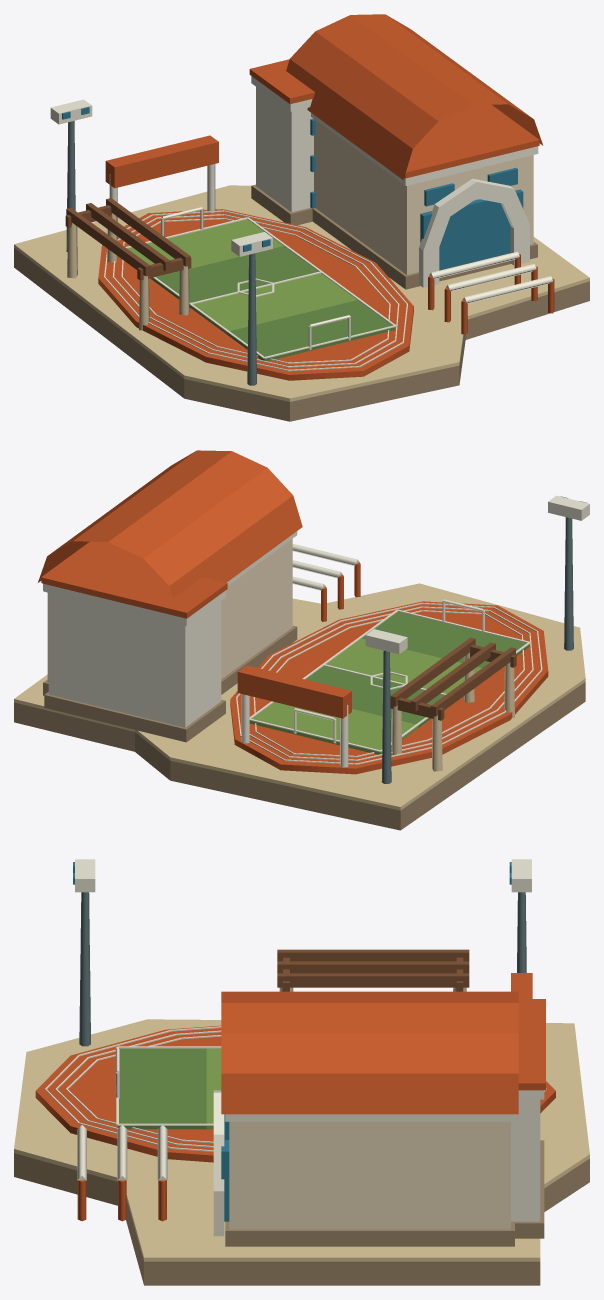
File: training-center-lv3.glb
3 views of the same model, one above another, from view 1: azimuth 30°, elevation 25°; view 2: azimuth 150°, elevation 25°; view 3: azimuth 270°, elevation 25° (orthographic). The views are drawn at different scales.
Parts seen in each view (by area): view 1: foundation_sand, gym_barrel_roof_orange, running_track_orange, foundation_stoneDark, training_hall_cream, pitch_grass, pitch_grassLight, performance_block_white, training_hall_roof_orange, coaching_shelter_wood, gym_front_arch_white, gym_front_glass (+15 smaller); view 2: gym_barrel_roof_orange, performance_block_white, foundation_sand, running_track_orange, foundation_stoneDark, training_hall_cream, performance_block_roof_orange, pitch_grassLight, pitch_grass, coaching_shelter_wood, running_lanes_white, timing_gate_orange (+11 smaller); view 3: gym_barrel_roof_orange, training_hall_cream, foundation_sand, foundation_stoneDark, running_track_orange, coaching_shelter_wood, pitch_grass, training_hall_stoneDark, performance_block_white, performance_block_roof_orange, lighting_iron, training_hall_white (+9 smaller).
Part boxes in pixels (x1,y1,x2,y2): foundation_sand: [14, 185, 589, 401]; gym_barrel_roof_orange: [286, 14, 543, 179]; running_track_orange: [98, 209, 413, 380]; foundation_stoneDark: [14, 248, 589, 421]; training_hall_cream: [314, 120, 533, 274]; pitch_grass: [153, 246, 395, 361]; pitch_grassLight: [127, 219, 357, 334]; performance_block_white: [251, 76, 313, 212]; training_hall_roof_orange: [404, 104, 539, 178]; coaching_shelter_wood: [65, 198, 191, 280]; gym_front_arch_white: [419, 178, 529, 287]; gym_front_glass: [420, 189, 523, 270]; gym_barrel_roof_orange: [38, 450, 302, 597]; performance_block_white: [44, 584, 225, 727]; foundation_sand: [14, 583, 585, 810]; running_track_orange: [230, 601, 548, 774]; foundation_stoneDark: [14, 682, 585, 830]; training_hall_cream: [47, 539, 292, 682]; performance_block_roof_orange: [42, 548, 227, 618]; pitch_grassLight: [249, 638, 481, 754]; pitch_grass: [305, 611, 529, 727]; coaching_shelter_wood: [390, 637, 516, 720]; running_lanes_white: [236, 602, 542, 764]; timing_gate_orange: [237, 665, 351, 718]; gym_barrel_roof_orange: [221, 991, 518, 1114]; training_hall_cream: [229, 1121, 510, 1229]; foundation_sand: [14, 1019, 589, 1261]; foundation_stoneDark: [14, 1153, 589, 1285]; running_track_orange: [35, 1025, 555, 1162]; coaching_shelter_wood: [277, 949, 469, 991]; pitch_grass: [117, 1048, 206, 1129]; training_hall_stoneDark: [225, 1221, 514, 1246]; performance_block_white: [511, 1090, 544, 1221]; performance_block_roof_orange: [518, 999, 545, 1090]; lighting_iron: [79, 892, 526, 1046]; training_hall_white: [225, 1114, 514, 1121].
Bounding box in the file's own units: 0.9785 × 0.4462 × 1.
